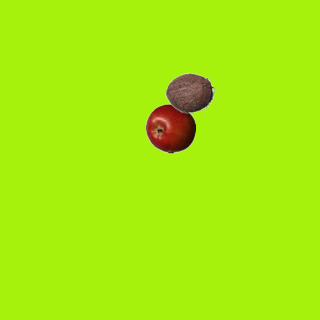Apple Braeburn: (145, 103, 195, 153)
Cocos: (164, 67, 214, 117)
